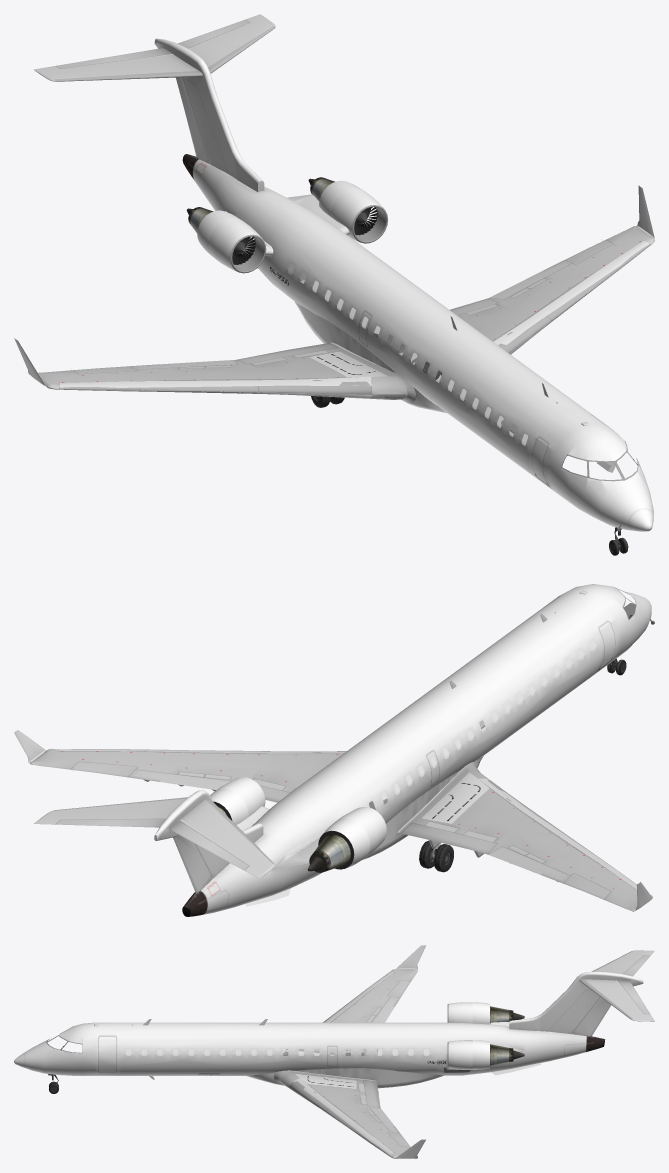
The model's file is global.glb.
The picture shows the model from 3 angles, top to bottom: view 1: azimuth 30°, elevation 25°; view 2: azimuth 150°, elevation 25°; view 3: azimuth 270°, elevation 25°; orthographic projection. The views are drawn at different scales.
Bounding box in the file's own units: 7.8 × 2.37 × 10.87.
20 materials, 11 textured.
